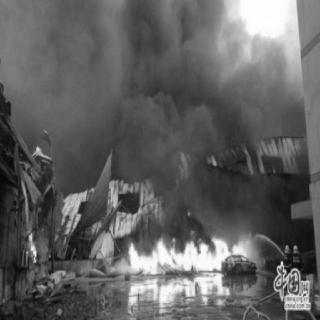Fire: (115, 228, 268, 276)
